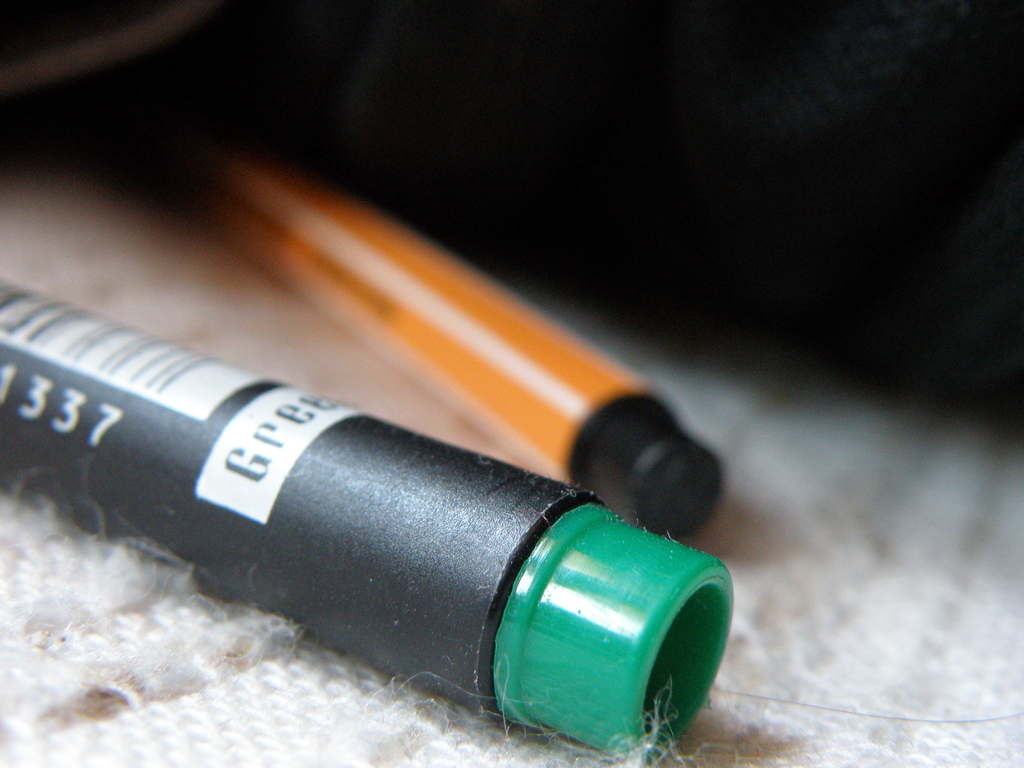Pen: (0, 277, 730, 767), (175, 120, 727, 551)
